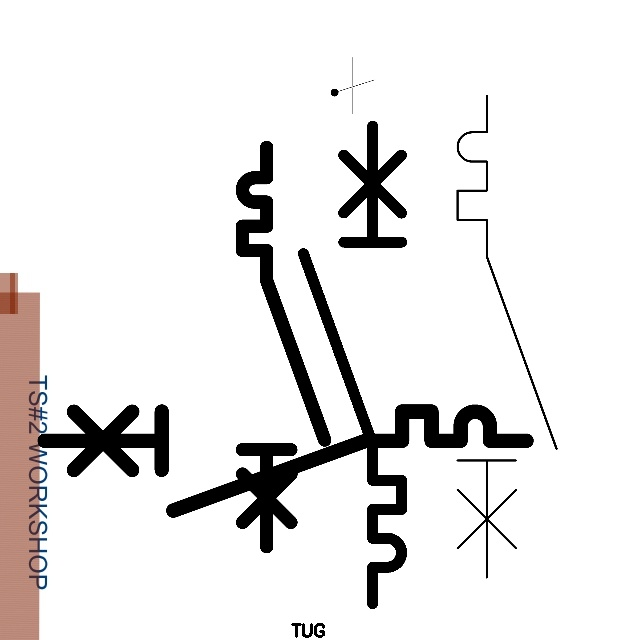interruptor_termomagnetico: (32, 399, 539, 523), (445, 83, 569, 590), (291, 113, 414, 615), (232, 137, 334, 557)
